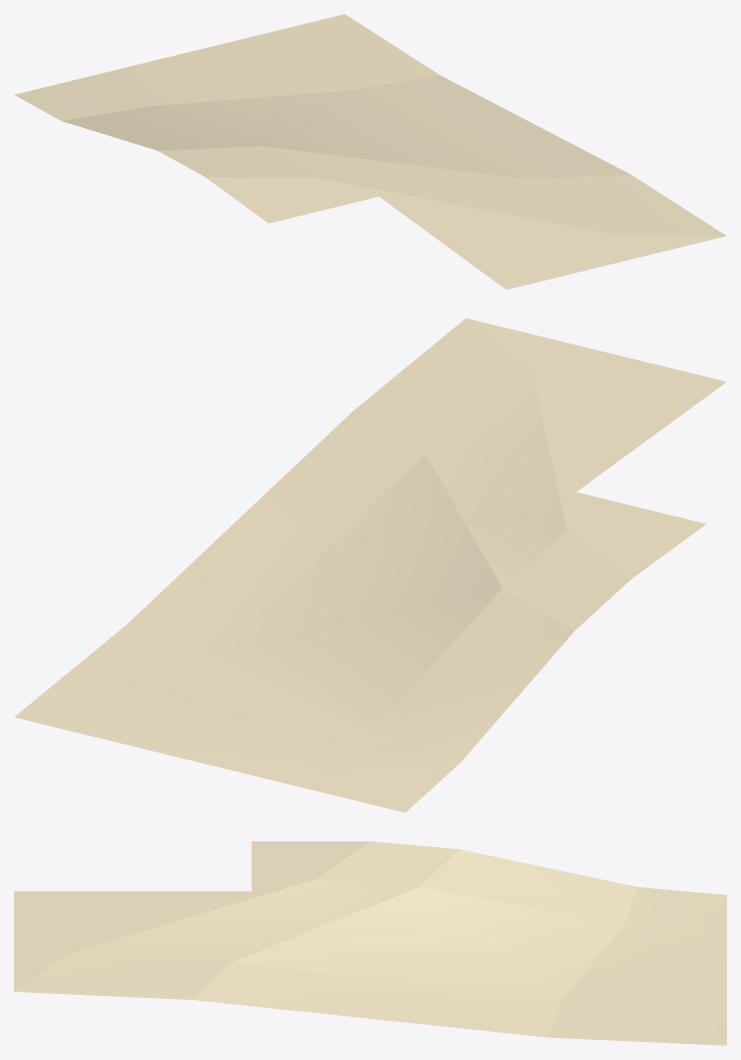
Rendered from Beach_Terrain_Sand_Transition_Gentle_Sharp_Flush_Base.glb.
The picture shows the model from 3 angles, top to bottom: view 1: azimuth 30°, elevation 25°; view 2: azimuth 150°, elevation 25°; view 3: azimuth 270°, elevation 25°; orthographic projection. The views are drawn at different scales.
Parts seen in each view (by area): view 1: Beach_Terrain_Sand_Transition_Gentle_Sharp_Flush_Base; view 2: Beach_Terrain_Sand_Transition_Gentle_Sharp_Flush_Base; view 3: Beach_Terrain_Sand_Transition_Gentle_Sharp_Flush_Base.
Boxes of the visible parts, x1=… form: Beach_Terrain_Sand_Transition_Gentle_Sharp_Flush_Base: x1=14, y1=14, x2=726, y2=289; Beach_Terrain_Sand_Transition_Gentle_Sharp_Flush_Base: x1=14, y1=318, x2=726, y2=812; Beach_Terrain_Sand_Transition_Gentle_Sharp_Flush_Base: x1=14, y1=841, x2=726, y2=1045.
Bounding box in the file's own units: 3 × 0.5 × 6.
